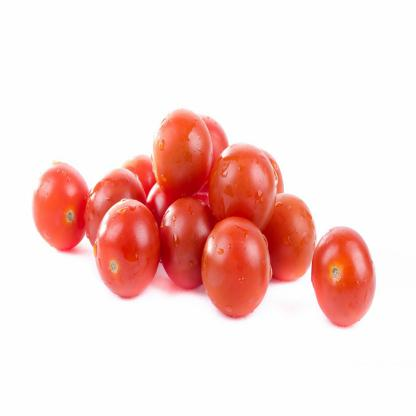tomato: (93, 199, 164, 303), (202, 224, 274, 324), (312, 221, 372, 327), (209, 140, 276, 228), (31, 156, 87, 258), (264, 182, 315, 289), (89, 163, 146, 258), (148, 109, 210, 192), (157, 194, 211, 286)
